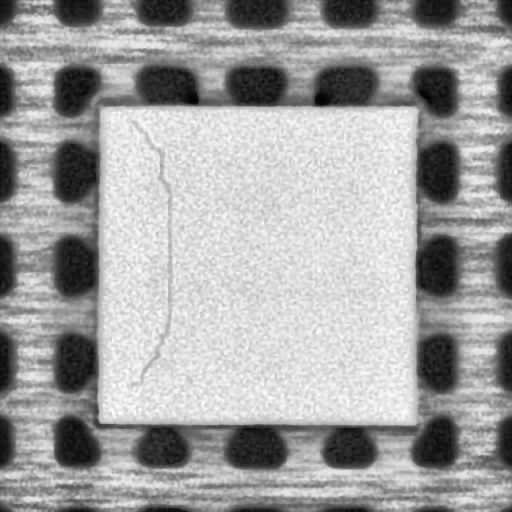DIE_CRACK: (120, 118, 174, 383)
